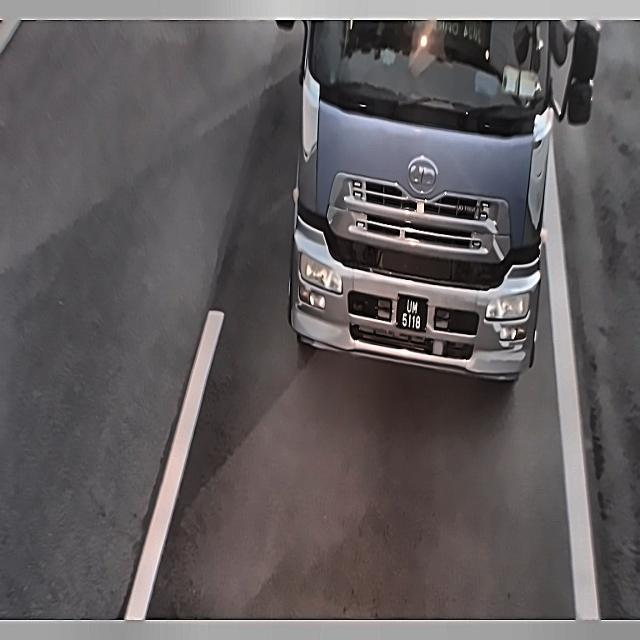car: (394, 289, 433, 338)
